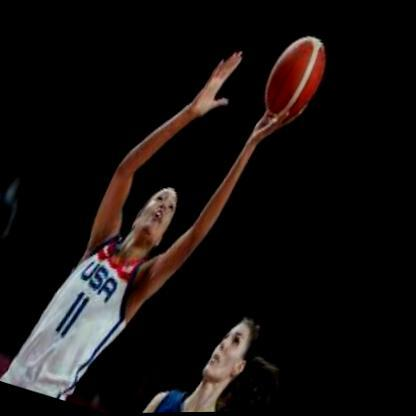basketball: (252, 30, 340, 127)
